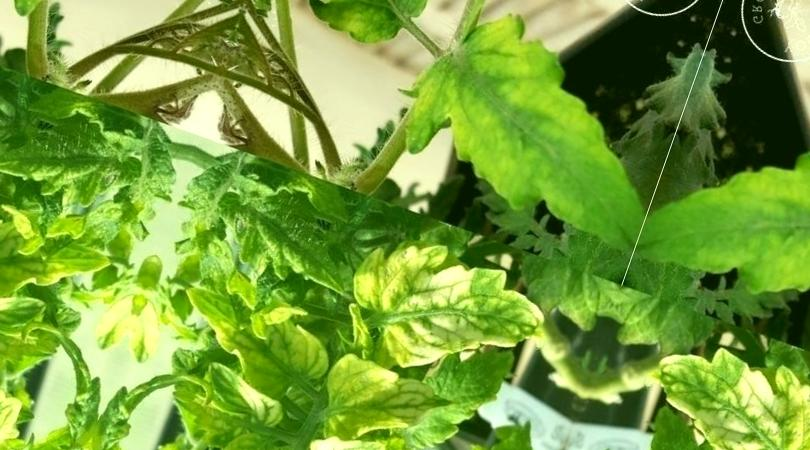Tomato leaf yellow virus: (370, 0, 690, 264), (335, 225, 564, 407), (177, 280, 359, 412), (312, 330, 480, 450), (257, 0, 470, 65), (163, 359, 310, 450), (258, 411, 526, 450), (453, 402, 564, 450)
